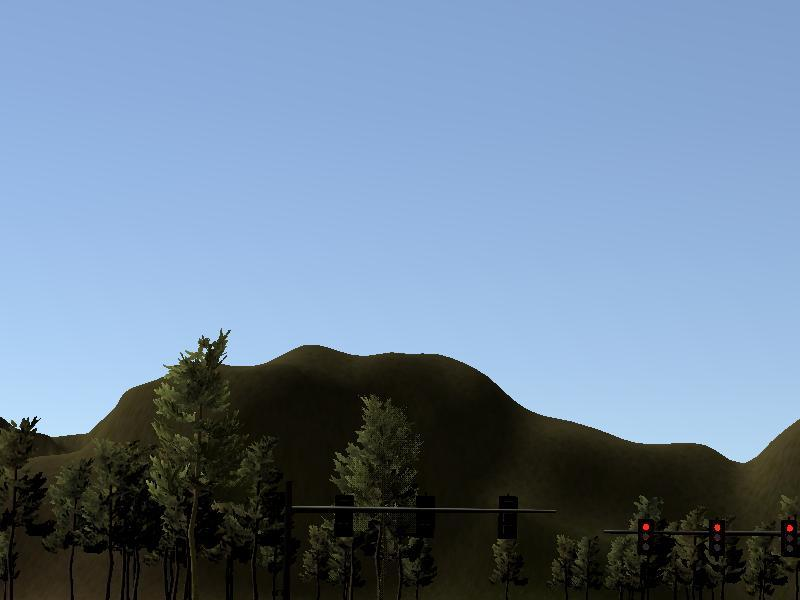Red: (780, 520, 796, 557), (709, 520, 725, 557), (638, 520, 654, 557)
